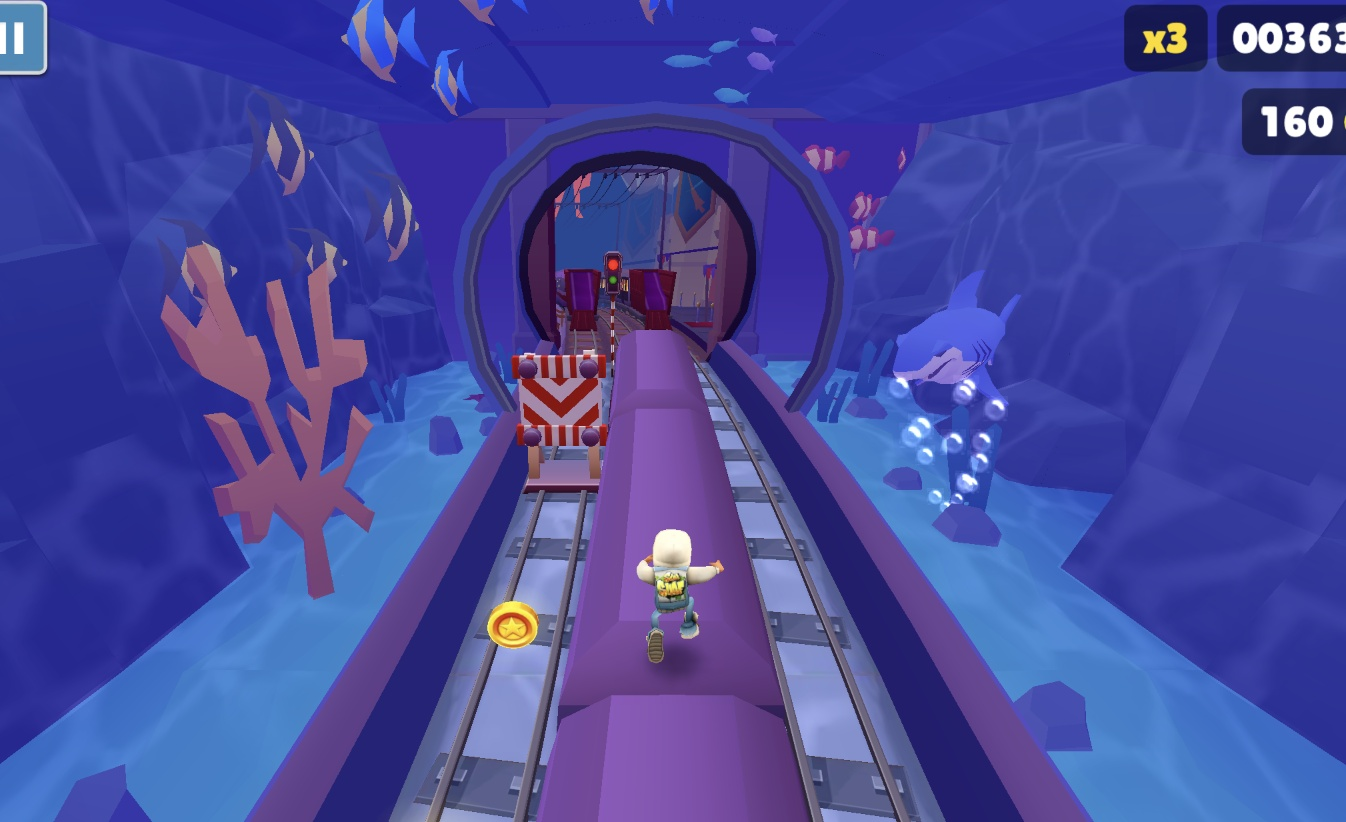overhead_barrier: (509, 354, 609, 495)
train: (530, 329, 817, 822), (626, 269, 676, 332), (563, 269, 598, 333)
